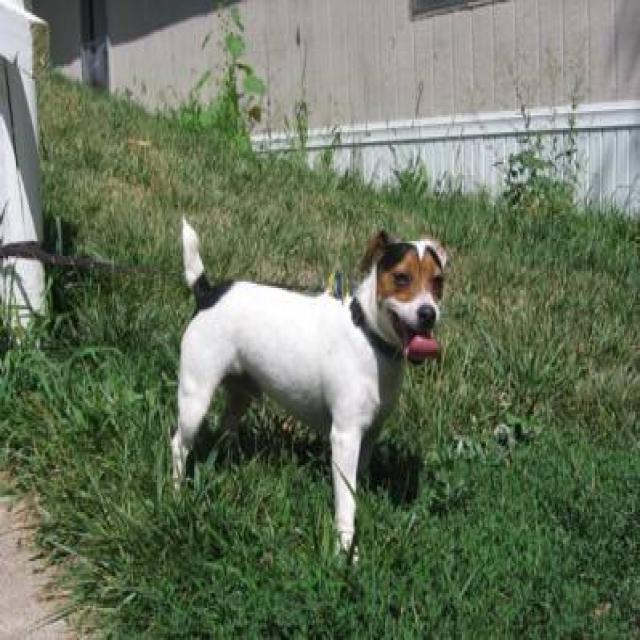dog: (168, 212, 448, 566)
